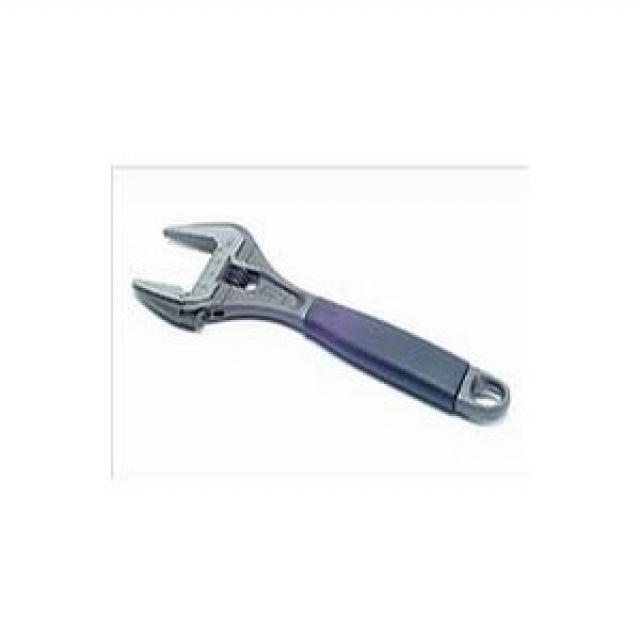Wrench: (121, 209, 518, 432)
